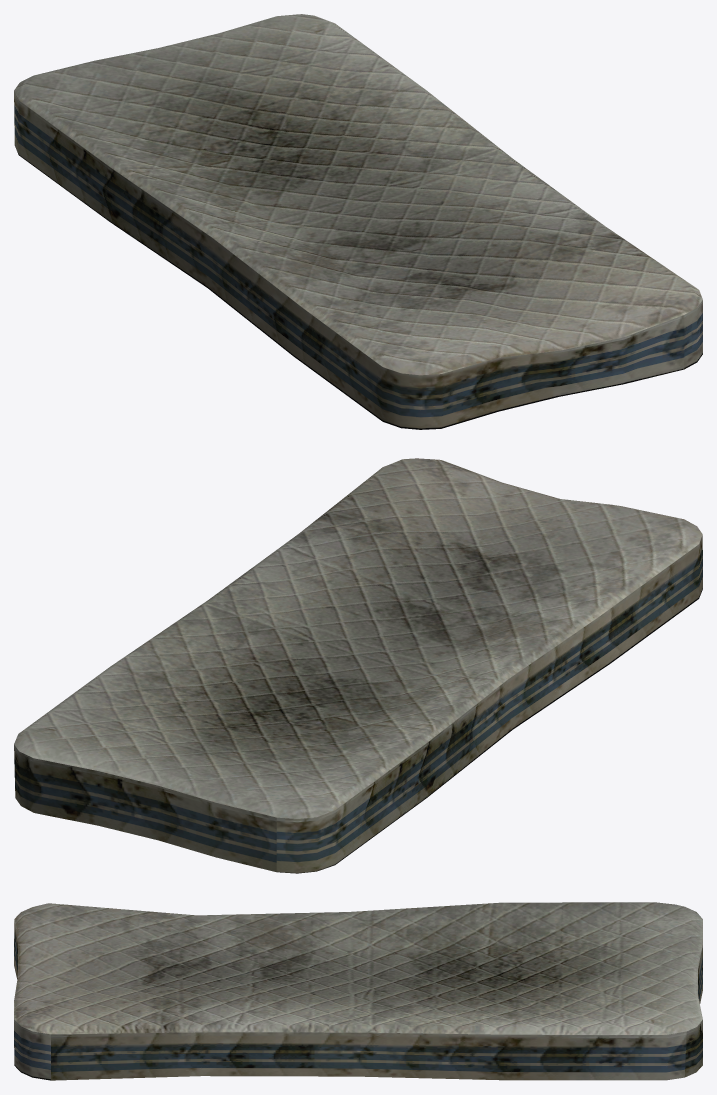
Rendered from hbed01_mattress01_obj_uni17_ag.obj.
3 renders of one model, top to bottom at view 1: azimuth 30°, elevation 25°; view 2: azimuth 150°, elevation 25°; view 3: azimuth 270°, elevation 25°, orthographic. The views are drawn at different scales.
Parts seen in each view (by area): view 1: hbed01_mattress01_obj_uni17_ag; view 2: hbed01_mattress01_obj_uni17_ag; view 3: hbed01_mattress01_obj_uni17_ag.
Part boxes in pixels (left/top/right/bottom): hbed01_mattress01_obj_uni17_ag: left=14, top=14, right=702, bottom=429; hbed01_mattress01_obj_uni17_ag: left=14, top=458, right=702, bottom=873; hbed01_mattress01_obj_uni17_ag: left=14, top=902, right=702, bottom=1080.
Bounding box in the file's own units: 93.73 × 16.9 × 209.
1 material, 1 textured.
